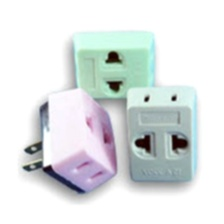three_eye_plug: (19, 83, 123, 203), (125, 77, 204, 188), (65, 24, 165, 111)
